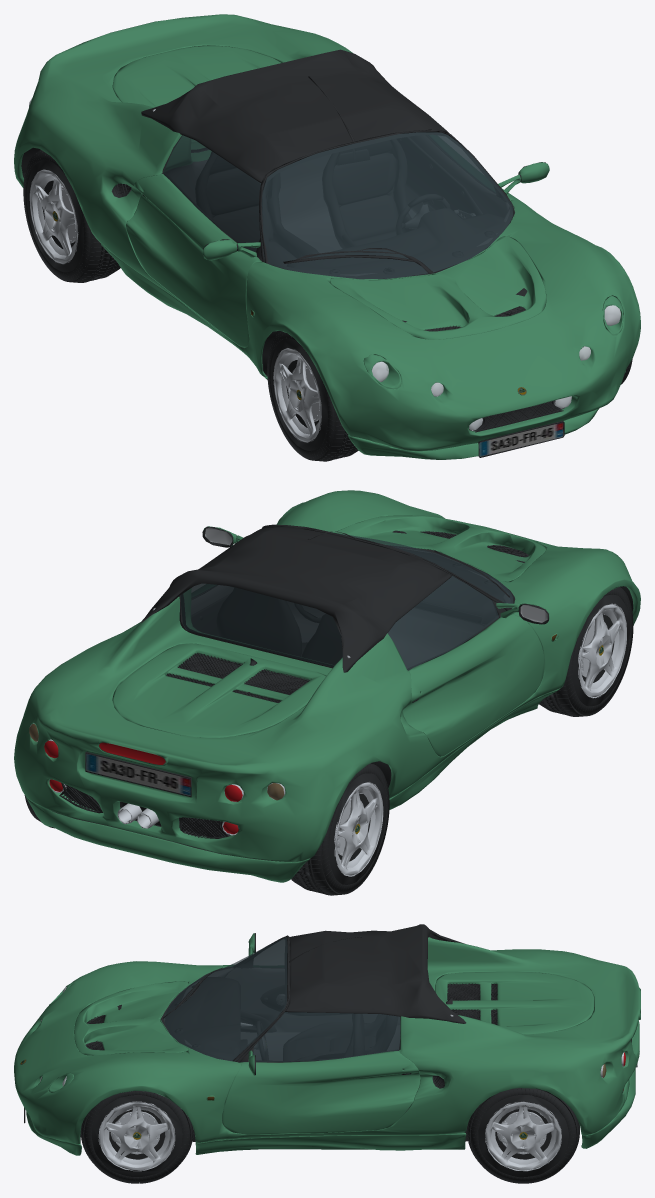
Rendered from lotus-elise-distance.glb.
3 renders of one model, top to bottom at view 1: azimuth 30°, elevation 25°; view 2: azimuth 150°, elevation 25°; view 3: azimuth 270°, elevation 25°, orthographic. The views are drawn at different scales.
Visible parts, largest first — view 1: body, wheel_rear_right, wheel_front_right; view 2: body, wheel_rear_right, wheel_front_right; view 3: body, wheel_rear_left, wheel_front_left.
Boxes of the visible parts, left/top/right/bottom form: body: left=14, top=14, right=640, bottom=459; wheel_rear_right: left=23, top=150, right=120, bottom=282; wheel_front_right: left=267, top=331, right=358, bottom=461; body: left=14, top=490, right=640, bottom=882; wheel_rear_right: left=291, top=762, right=389, bottom=895; wheel_front_right: left=539, top=586, right=633, bottom=716; body: left=14, top=924, right=640, bottom=1155; wheel_rear_left: left=467, top=1088, right=579, bottom=1183; wheel_front_left: left=80, top=1091, right=193, bottom=1183.
Size of the model in its own units: 1.91 by 1.28 by 3.78.
11 materials, 1 textured.
